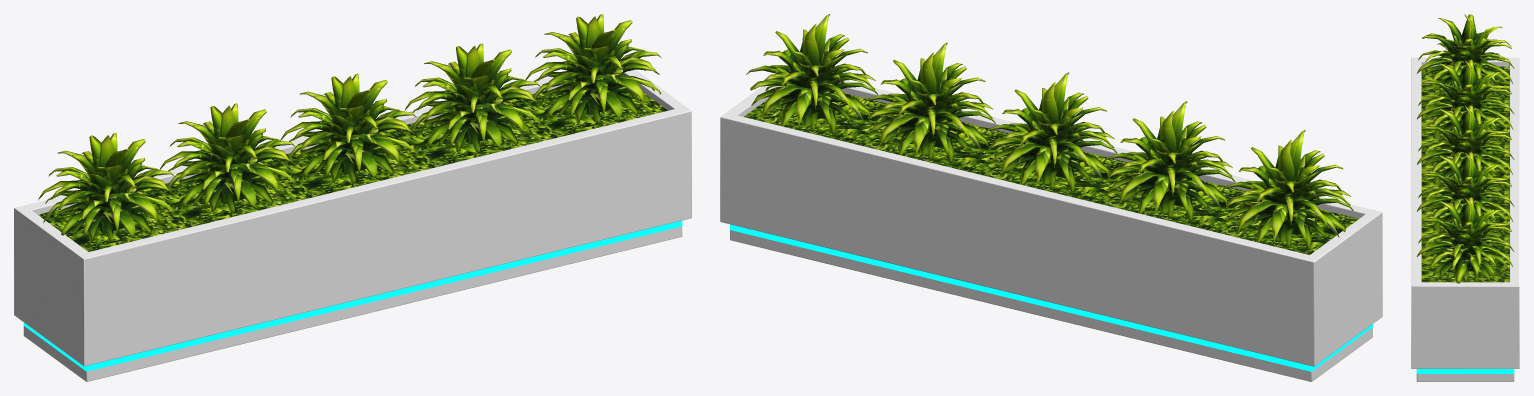
Rendered from LongPlanter.fbx.
3 renders of one model, left to right at view 1: azimuth 30°, elevation 25°; view 2: azimuth 150°, elevation 25°; view 3: azimuth 270°, elevation 25°, orthographic. The views are drawn at different scales.
Visible parts, largest first — view 1: Box006, tripo_node_1f5d7a050; view 2: Box006, tripo_node_1f5d7a050; view 3: tripo_node_1f5d7a050, Box006.
Boxes of the visible parts, x1,y1,x2,y2 form: Box006: (14,69,691,381); tripo_node_1f5d7a050: (38,14,667,251); Box006: (720,80,1382,381); tripo_node_1f5d7a050: (744,14,1358,254); tripo_node_1f5d7a050: (1417,14,1514,283); Box006: (1411,57,1519,381).
Size of the model in its own units: 150 by 50 by 30.
2 materials, 2 textured.
